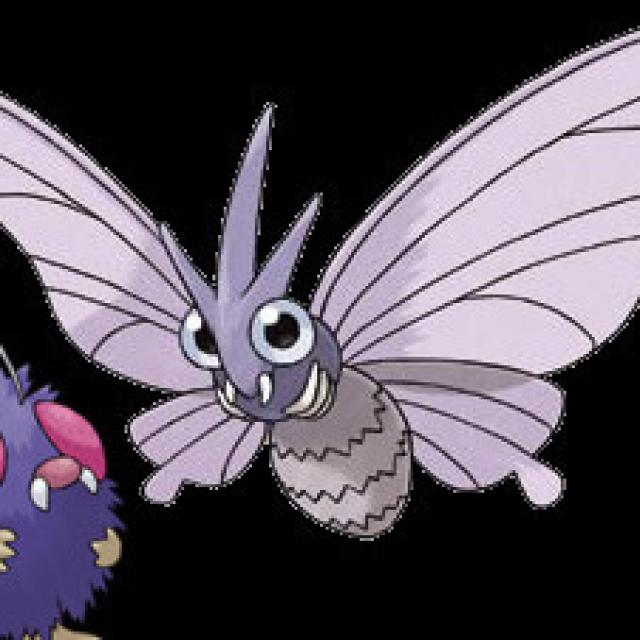Venomoth: (49, 105, 580, 520)
